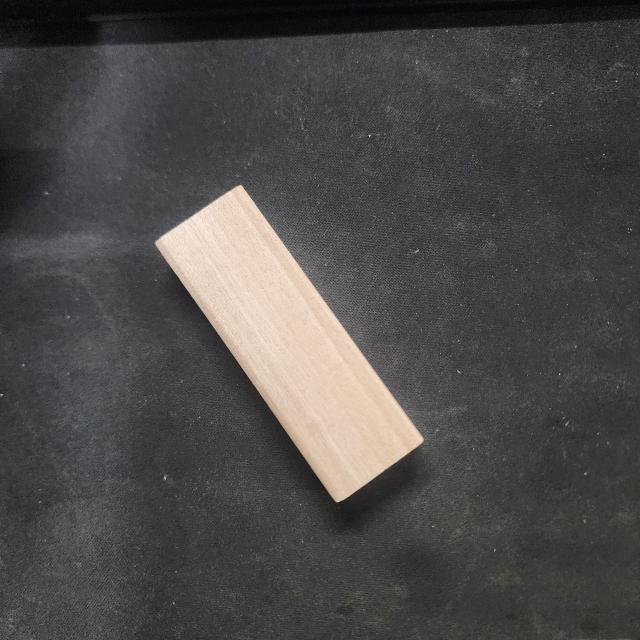wood: (152, 182, 426, 505)
